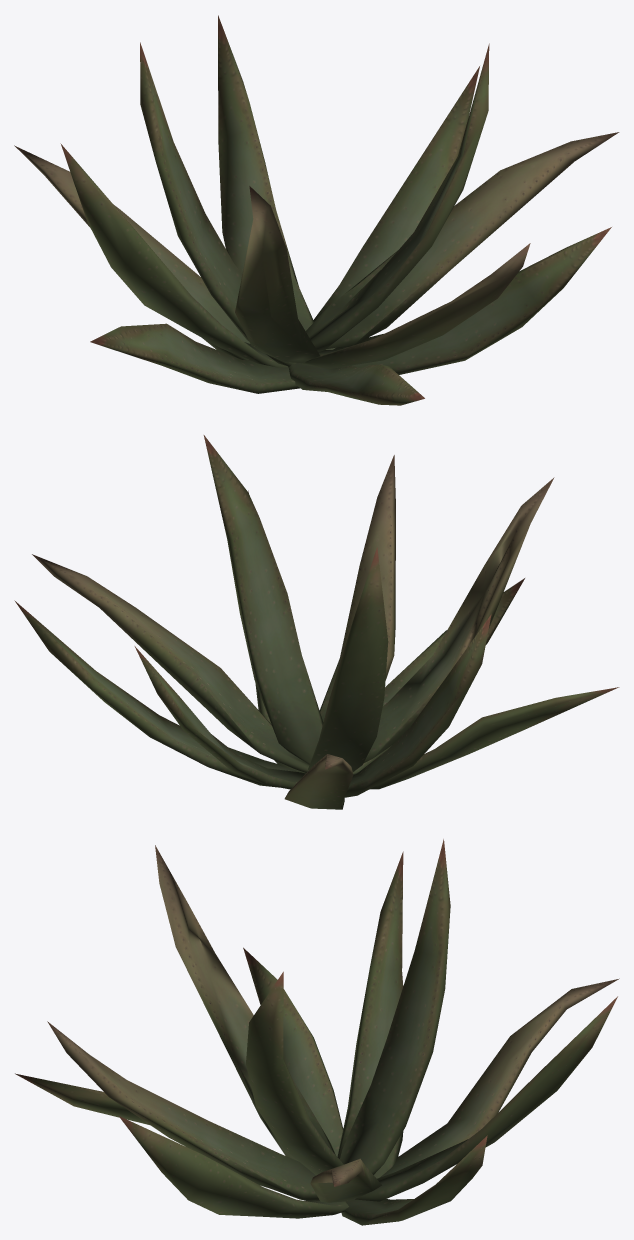
Rendered from Scene_Tree_JunZiLan_1.FBX.
3 renders of one model, top to bottom at view 1: azimuth 30°, elevation 25°; view 2: azimuth 150°, elevation 25°; view 3: azimuth 270°, elevation 25°, orthographic. The views are drawn at different scales.
Visible parts, largest first — view 1: Scene_Tree_JunZiLan_1; view 2: Scene_Tree_JunZiLan_1; view 3: Scene_Tree_JunZiLan_1.
Boxes of the visible parts, x1=… form: Scene_Tree_JunZiLan_1: x1=14, y1=15, x2=619, y2=405; Scene_Tree_JunZiLan_1: x1=14, y1=435, x2=619, y2=809; Scene_Tree_JunZiLan_1: x1=15, y1=839, x2=619, y2=1225.
Bounding box in the file's own units: 210 × 114 × 196.
